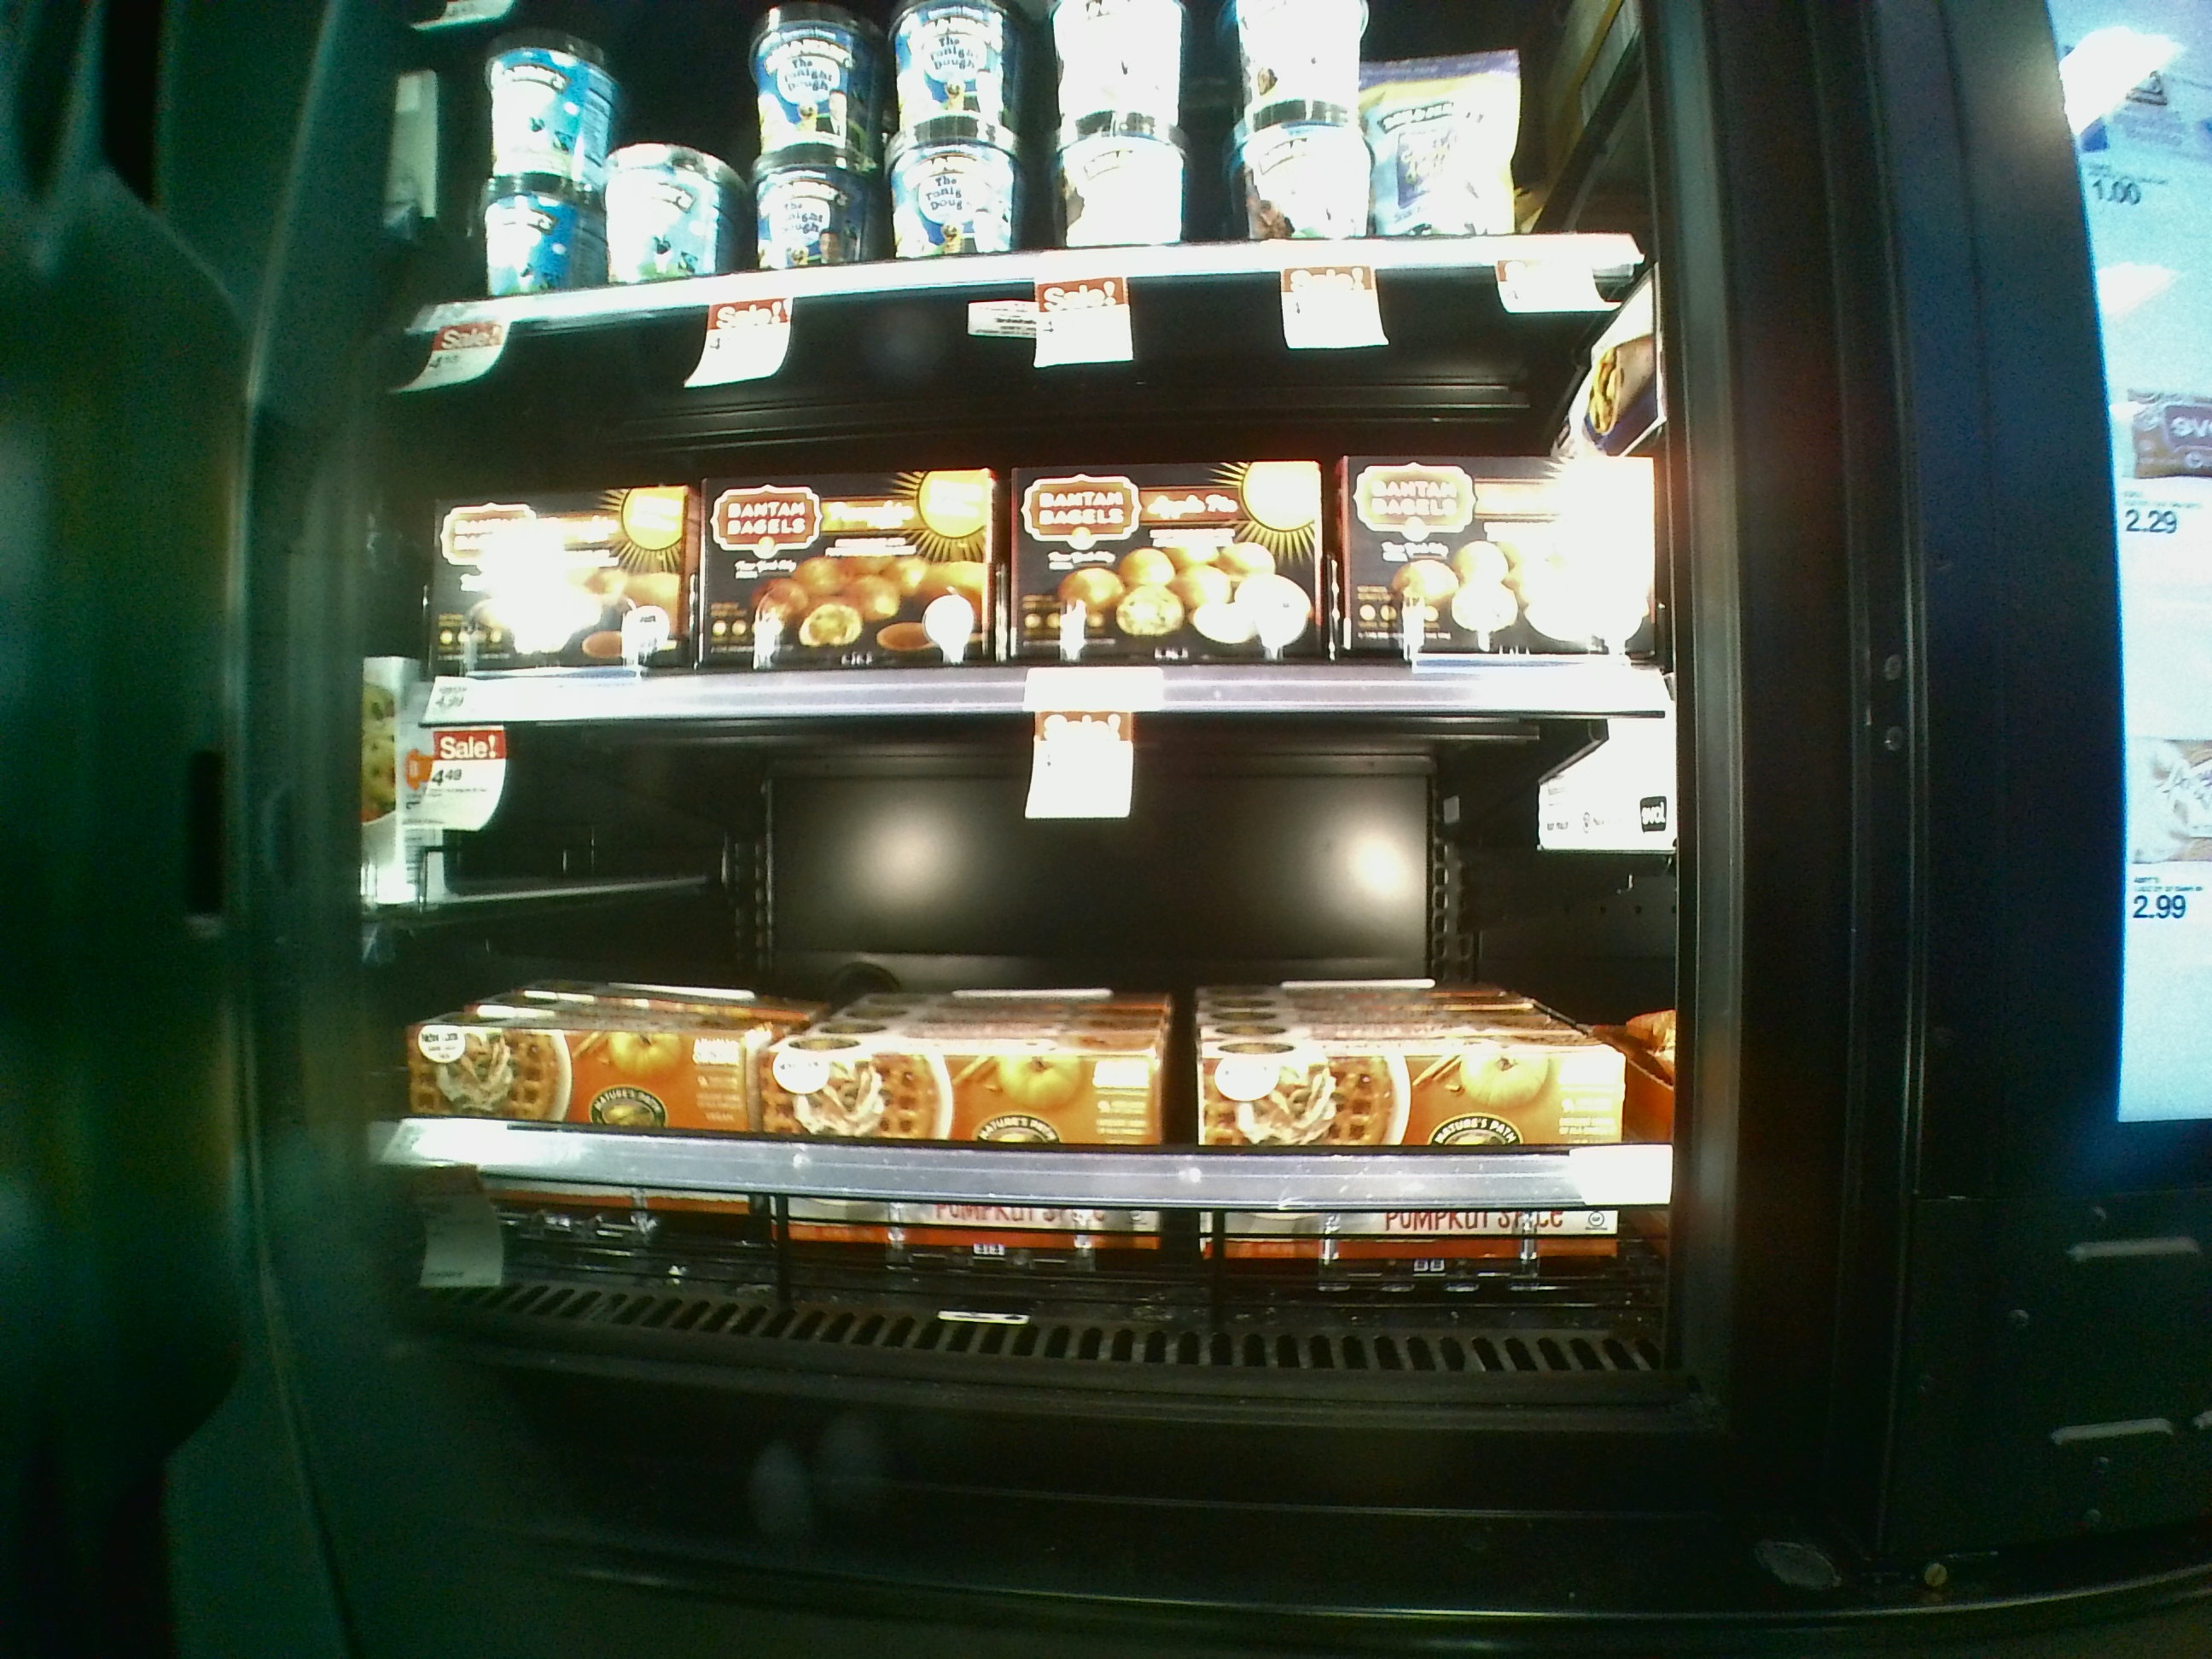shelf: (369, 685, 1688, 1368), (369, 310, 1689, 711)
